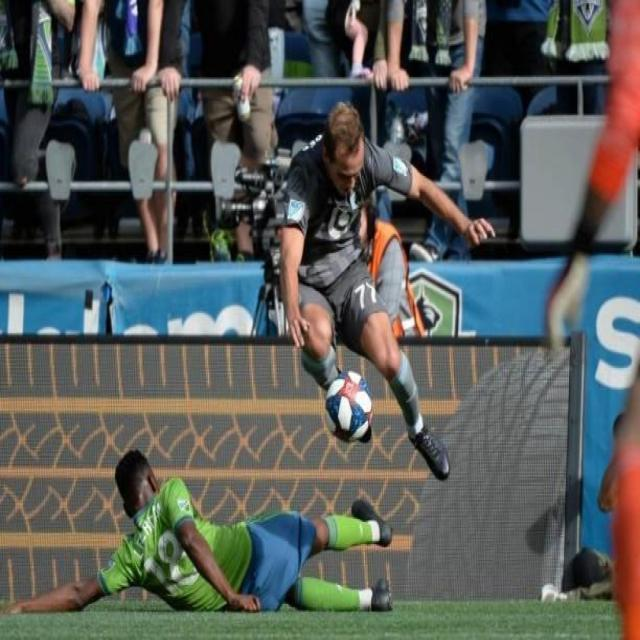ball: (316, 367, 378, 449)
player: (270, 105, 453, 502), (0, 456, 402, 619)
